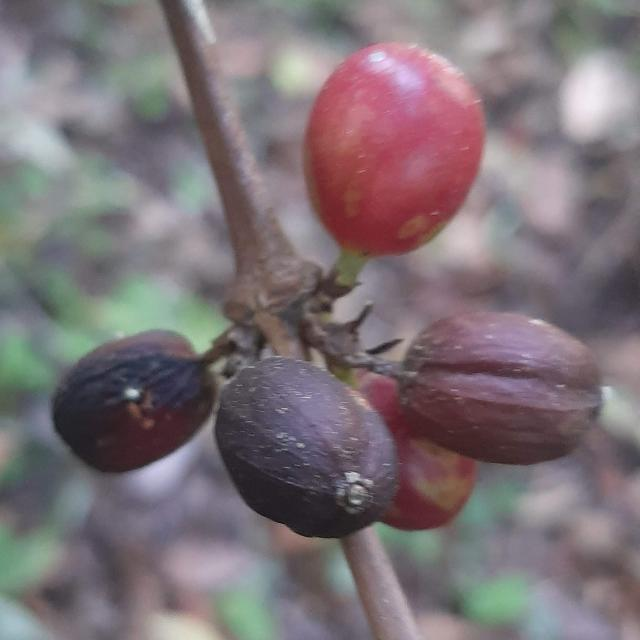red: (305, 42, 486, 257), (215, 357, 399, 539), (399, 312, 602, 465), (51, 331, 215, 473), (356, 371, 477, 531)
